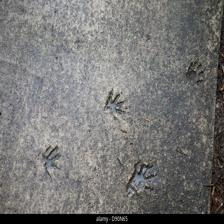raccoon: (98, 88, 132, 122), (39, 146, 63, 174)
